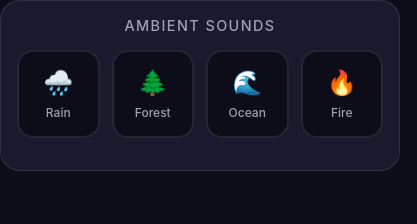
Test: AmbientSound › shows volume control when a sound is selected
Click the button with aria-label "Rain sound" at (58, 94), box [17, 50, 100, 138]
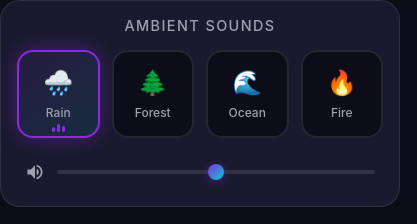
Expected: the slider named "Volume" is shown, [57, 170, 375, 174]
